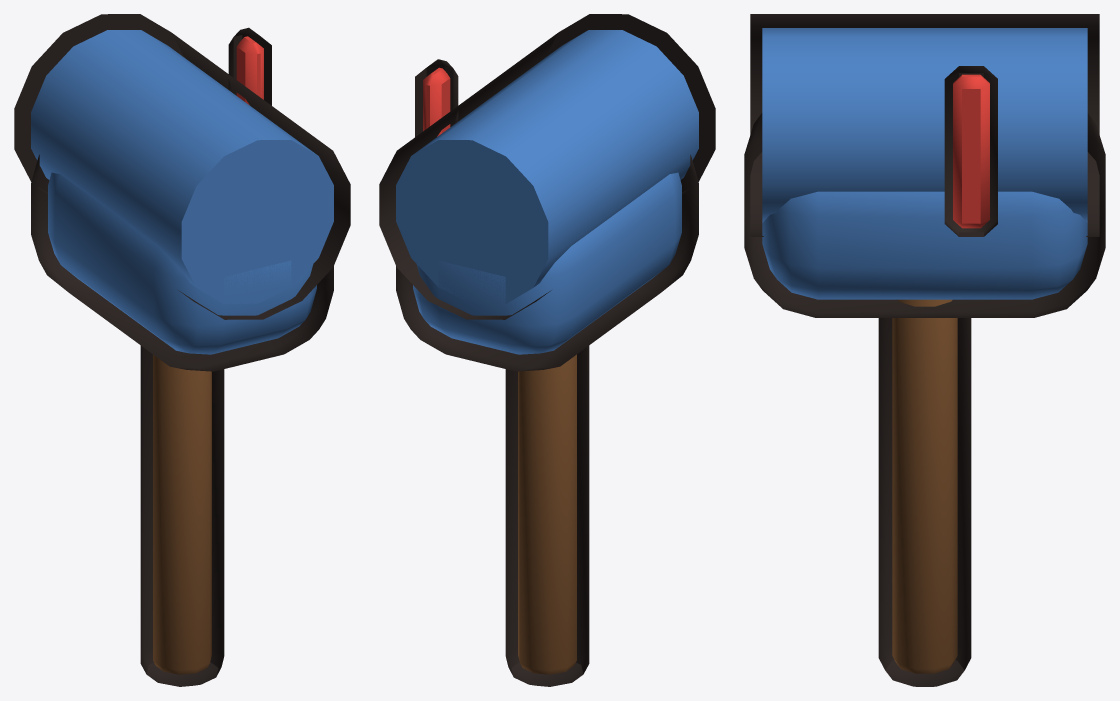
File: Mailbox.fbx
3 renders of one model, left to right at view 1: azimuth 30°, elevation 25°; view 2: azimuth 150°, elevation 25°; view 3: azimuth 270°, elevation 25°, orthographic. The views are drawn at different scales.
Parts seen in each view (by area): view 1: PR_Mailbox_AwningBlue, PR_Mailbox_Outline, PR_Mailbox_WoodDark, PR_Mailbox_Red; view 2: PR_Mailbox_AwningBlue, PR_Mailbox_Outline, PR_Mailbox_WoodDark, PR_Mailbox_Red; view 3: PR_Mailbox_AwningBlue, PR_Mailbox_Outline, PR_Mailbox_WoodDark, PR_Mailbox_Red.
Part boxes in pixels (left/top/right/bottom): PR_Mailbox_AwningBlue: left=31, top=30, right=333, bottom=354; PR_Mailbox_Outline: left=14, top=14, right=350, bottom=686; PR_Mailbox_WoodDark: left=153, top=354, right=211, bottom=674; PR_Mailbox_Red: left=236, top=36, right=263, bottom=105; PR_Mailbox_AwningBlue: left=396, top=30, right=698, bottom=354; PR_Mailbox_Outline: left=379, top=14, right=715, bottom=686; PR_Mailbox_WoodDark: left=518, top=354, right=576, bottom=674; PR_Mailbox_Red: left=423, top=67, right=450, bottom=136; PR_Mailbox_AwningBlue: left=762, top=28, right=1087, bottom=299; PR_Mailbox_Outline: left=744, top=14, right=1105, bottom=686; PR_Mailbox_WoodDark: left=892, top=299, right=957, bottom=673; PR_Mailbox_Red: left=953, top=74, right=989, bottom=228.
Size of the model in its own units: 0.5318 by 1.56 by 0.7786.
